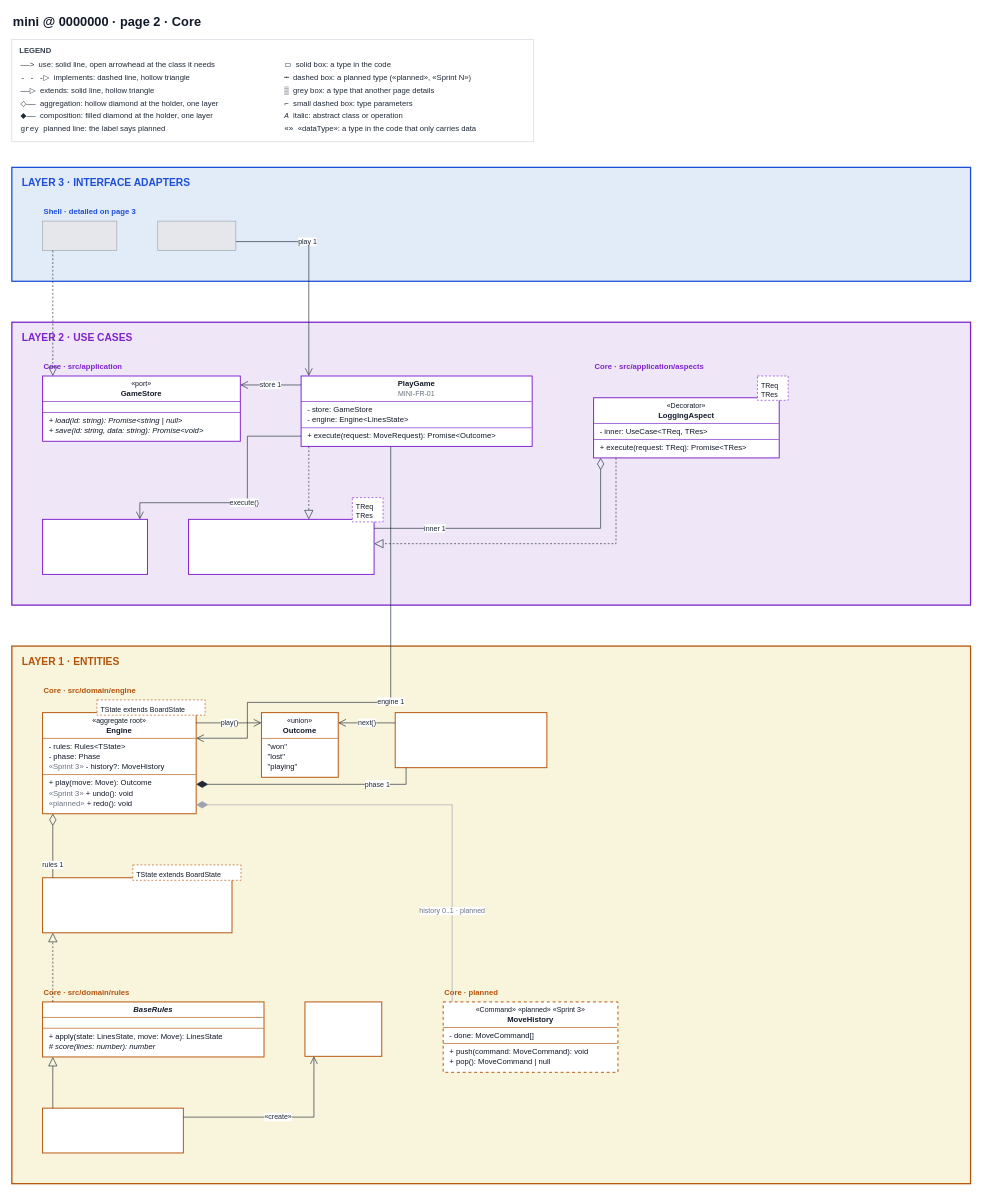
This 982x1195 diagram has some shape labels left out. The shapes that lost their labels are listed below. From the top down, each one's centre as x and y in pixels, then its label:
At (x=79, y=235): "PAGE 3 · SHELL MemoryStore".
At (x=196, y=235): "PAGE 3 · SHELL PlayController".
At (x=95, y=547): "«interface» «dataType» MoveRequest + cell: number".
At (x=281, y=547): "«interface» UseCase + execute(request: TReq): Promise<TRes>".
At (x=470, y=740): "«State» Phase + next(outcome: Outcome): Phase".
At (x=137, y=905): "«Strategy» «interface» Rules + apply(state: TState, move: Move): TState".
At (x=343, y=1029): "«enumeration» Color Red Blue".
At (x=113, y=1130): "LinesRules # score(lines: number): number".
